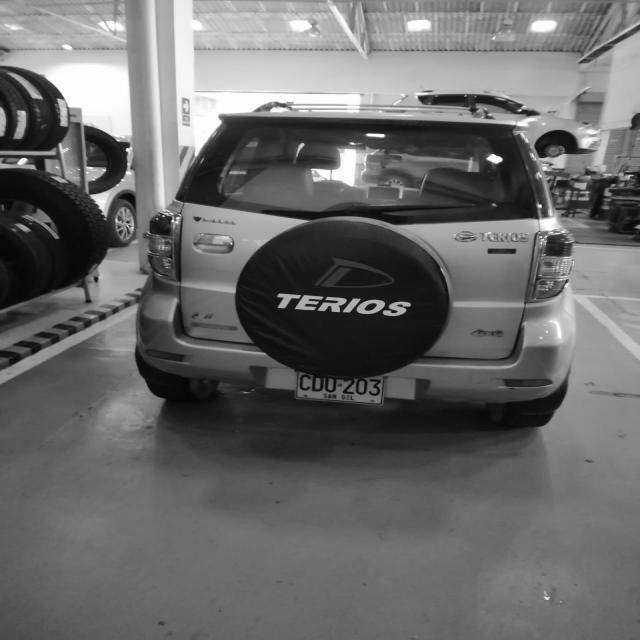plate: (290, 367, 389, 406)
